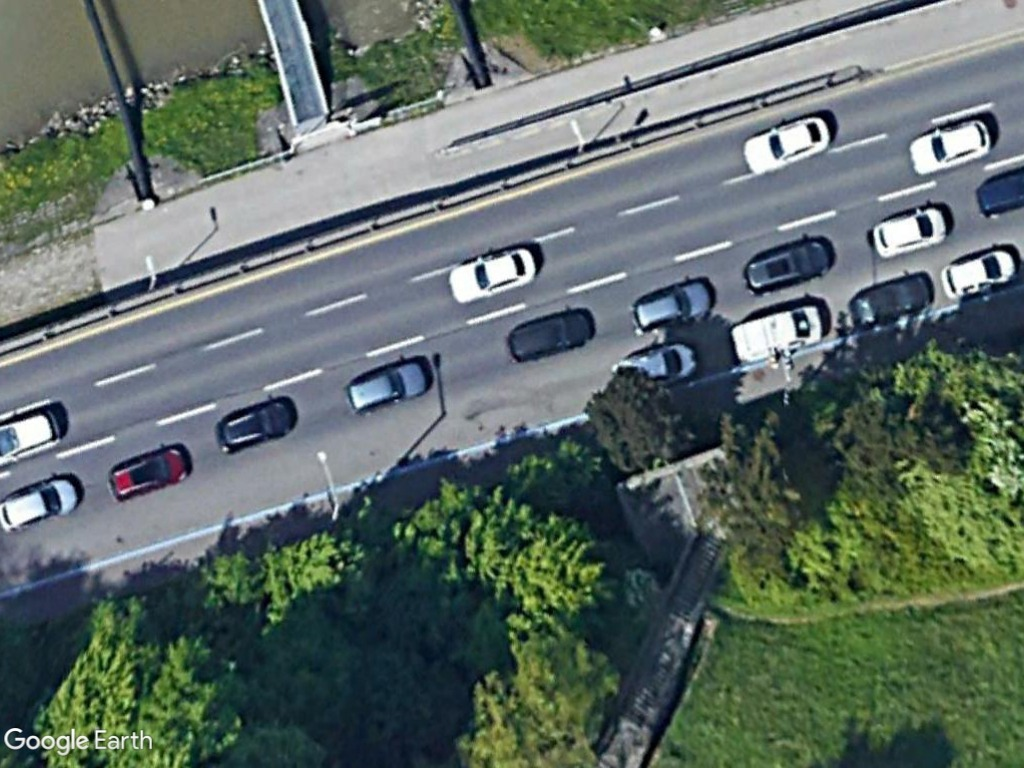car: (737, 105, 835, 178), (442, 237, 543, 306), (736, 233, 835, 299), (341, 354, 433, 420), (0, 467, 84, 538), (211, 391, 298, 459), (626, 273, 717, 338), (103, 438, 192, 503), (503, 303, 595, 365), (904, 115, 997, 176), (864, 198, 953, 261), (936, 240, 1022, 300)
van: (726, 293, 834, 370)
